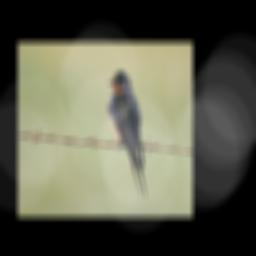Swallow: (107, 69, 148, 198)
